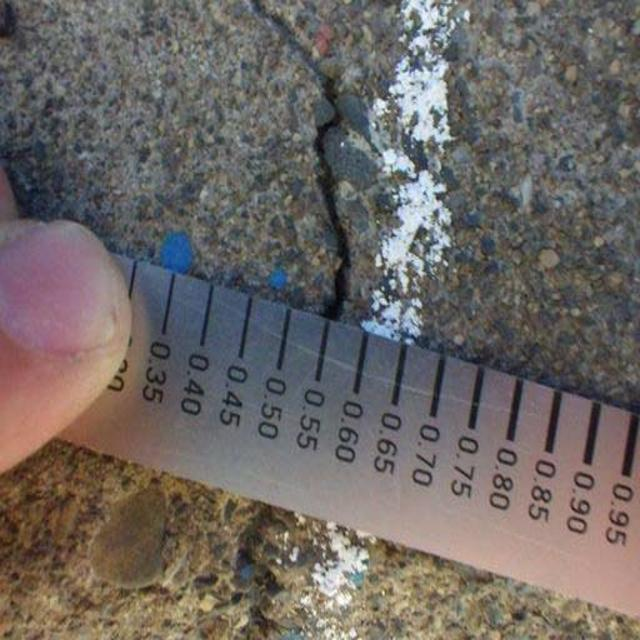crack: (245, 7, 368, 322)
